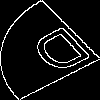D: (25, 25, 100, 83)
